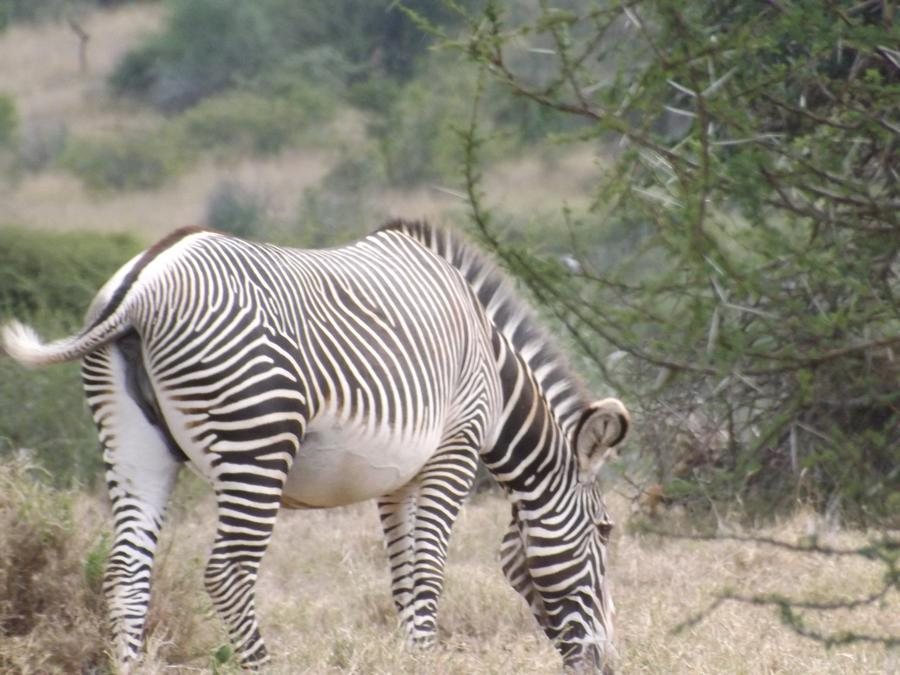zebra_grevys: (75, 209, 474, 481)
